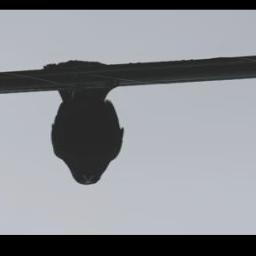Crow: (44, 60, 127, 186)
